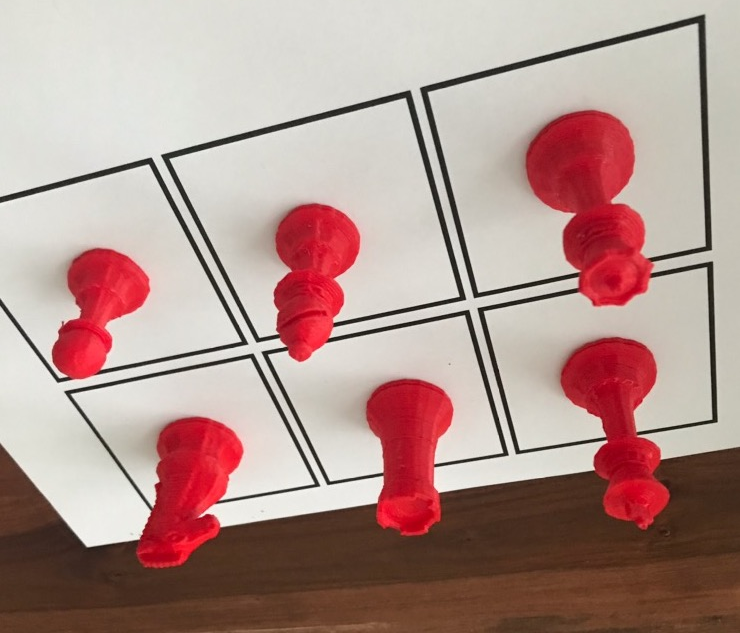Red Bishop: (250, 192, 366, 372)
Red Castle: (350, 376, 471, 545)
Red King: (550, 329, 693, 537)
Red Knight: (125, 414, 244, 571)
Red Pawn: (40, 237, 155, 384)
Red Queen: (523, 104, 673, 314)
